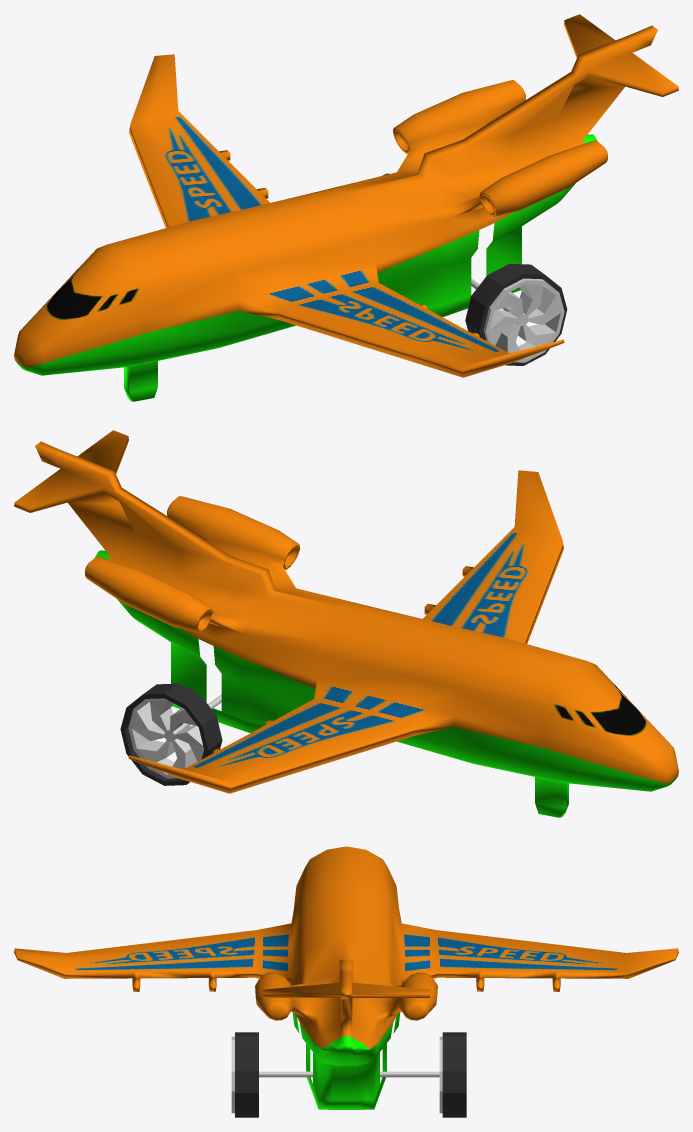
File: boeing7.glb
3 views of the same model, one above another, from view 1: azimuth 30°, elevation 25°; view 2: azimuth 150°, elevation 25°; view 3: azimuth 270°, elevation 25° (orthographic). The views are drawn at different scales.
Parts seen in each view (by area): view 1: AVIAO, roda, pneu; view 2: AVIAO, roda, pneu; view 3: AVIAO, pneu, roda.
Part boxes in pixels (left/top/right/bottom): AVIAO: left=14, top=14, right=678, bottom=401; roda: left=471, top=278, right=564, bottom=362; pneu: left=382, top=173, right=567, bottom=365; AVIAO: left=14, top=430, right=678, bottom=817; roda: left=128, top=694, right=221, bottom=778; pneu: left=120, top=683, right=222, bottom=785; AVIAO: left=14, top=846, right=678, bottom=1109; pneu: left=235, top=1032, right=466, bottom=1117; roda: left=231, top=1036, right=442, bottom=1113.
Bounding box in the file's own units: 11.48 × 4.25 × 12.32.
Materials: 3 (1 with a texture image).
